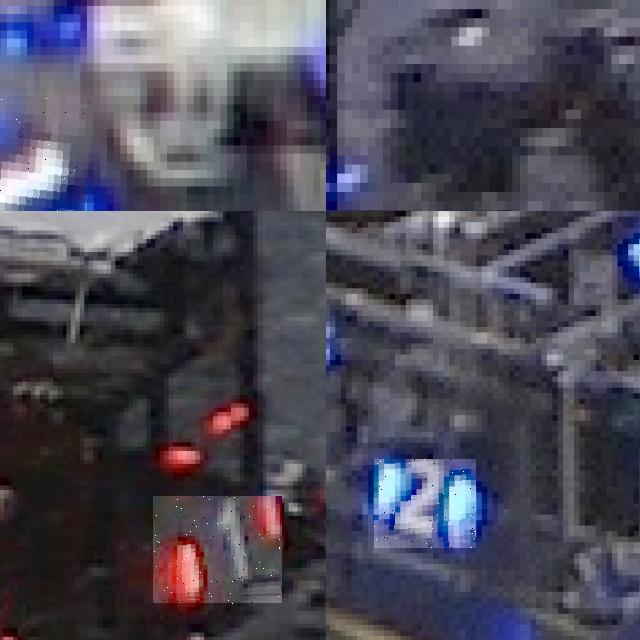B2: (374, 459, 476, 548)
B3: (0, 92, 93, 211)
R1: (153, 496, 282, 604)
